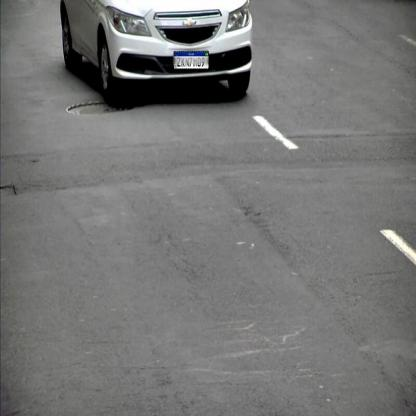PlacaM: (174, 52, 209, 70)
